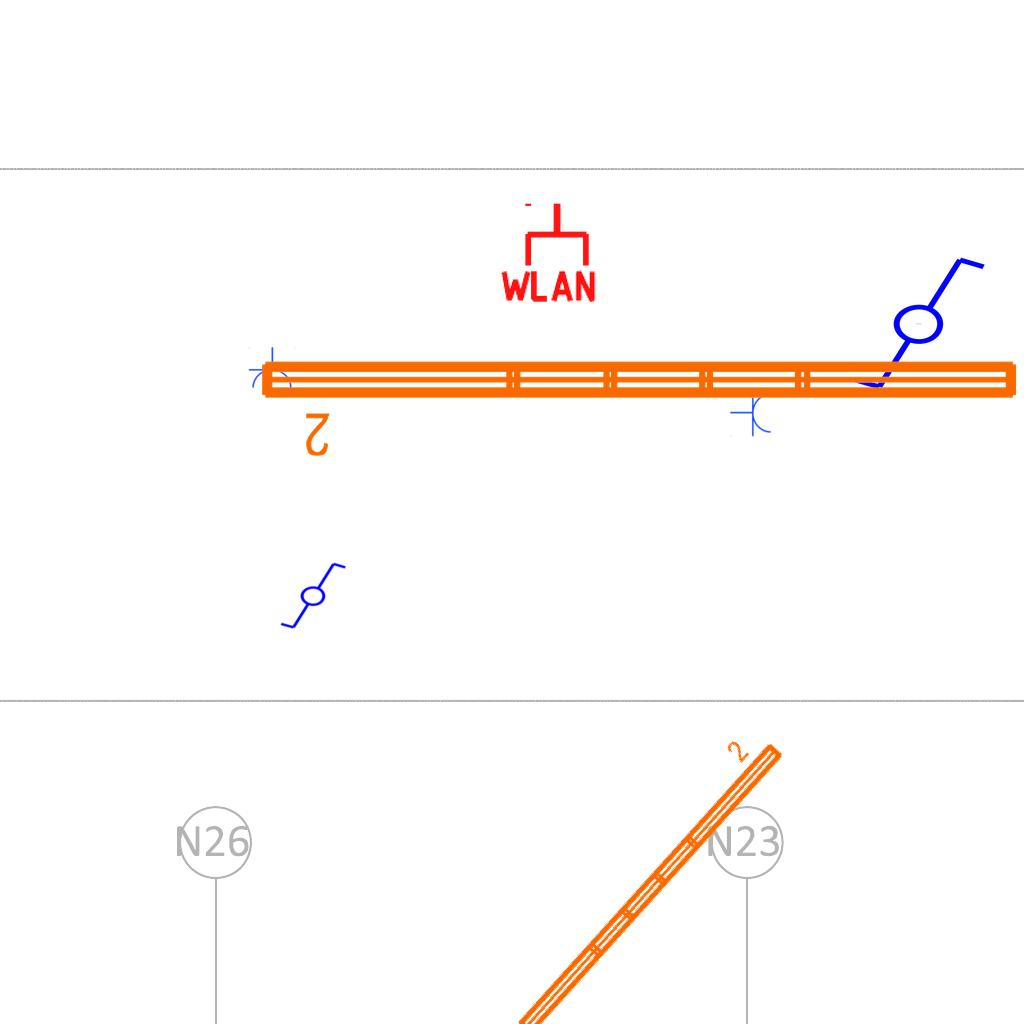Ambulanz_Pendelleuchte_LED: (490, 718, 791, 1024), (253, 349, 1024, 461)
Schukosteckdose_einfach: (730, 388, 773, 438), (247, 347, 297, 390)
WLAN: (496, 199, 600, 304)
Wechselschalter: (832, 250, 989, 394), (270, 559, 348, 631)
